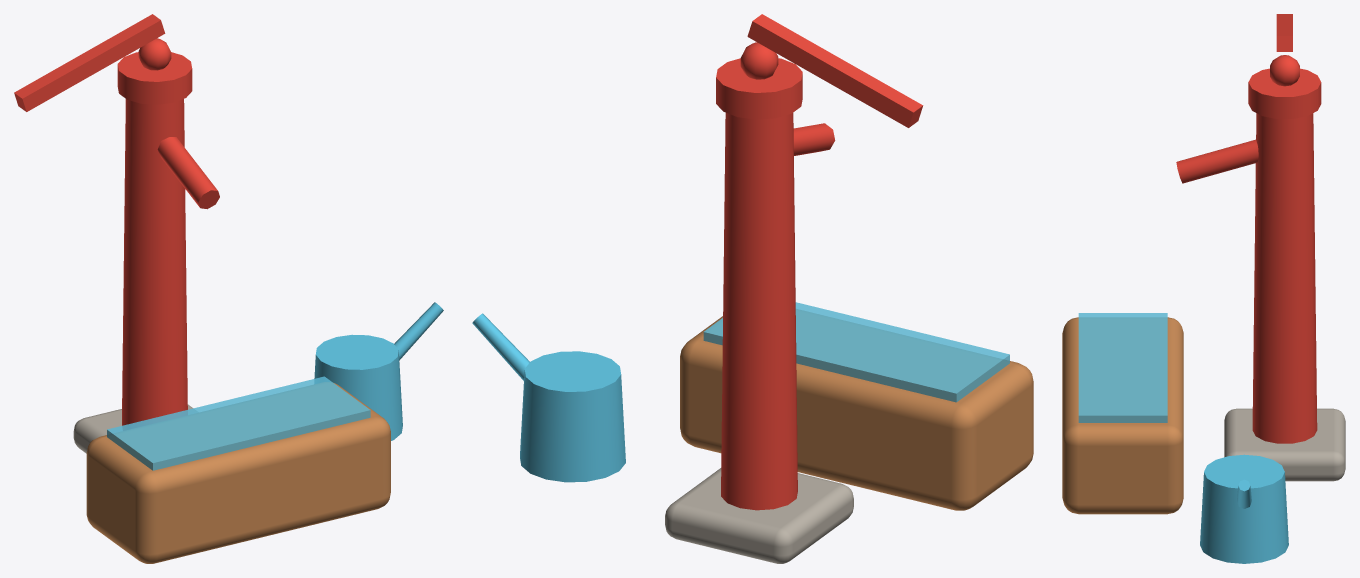
The model's file is rainbarrel-pump.glb.
The picture shows the model from 3 angles, left to right: view 1: azimuth 30°, elevation 25°; view 2: azimuth 150°, elevation 25°; view 3: azimuth 270°, elevation 25°; orthographic projection. The views are drawn at different scales.
Bounding box in the file's own units: 1.33 × 1.39 × 0.84.
